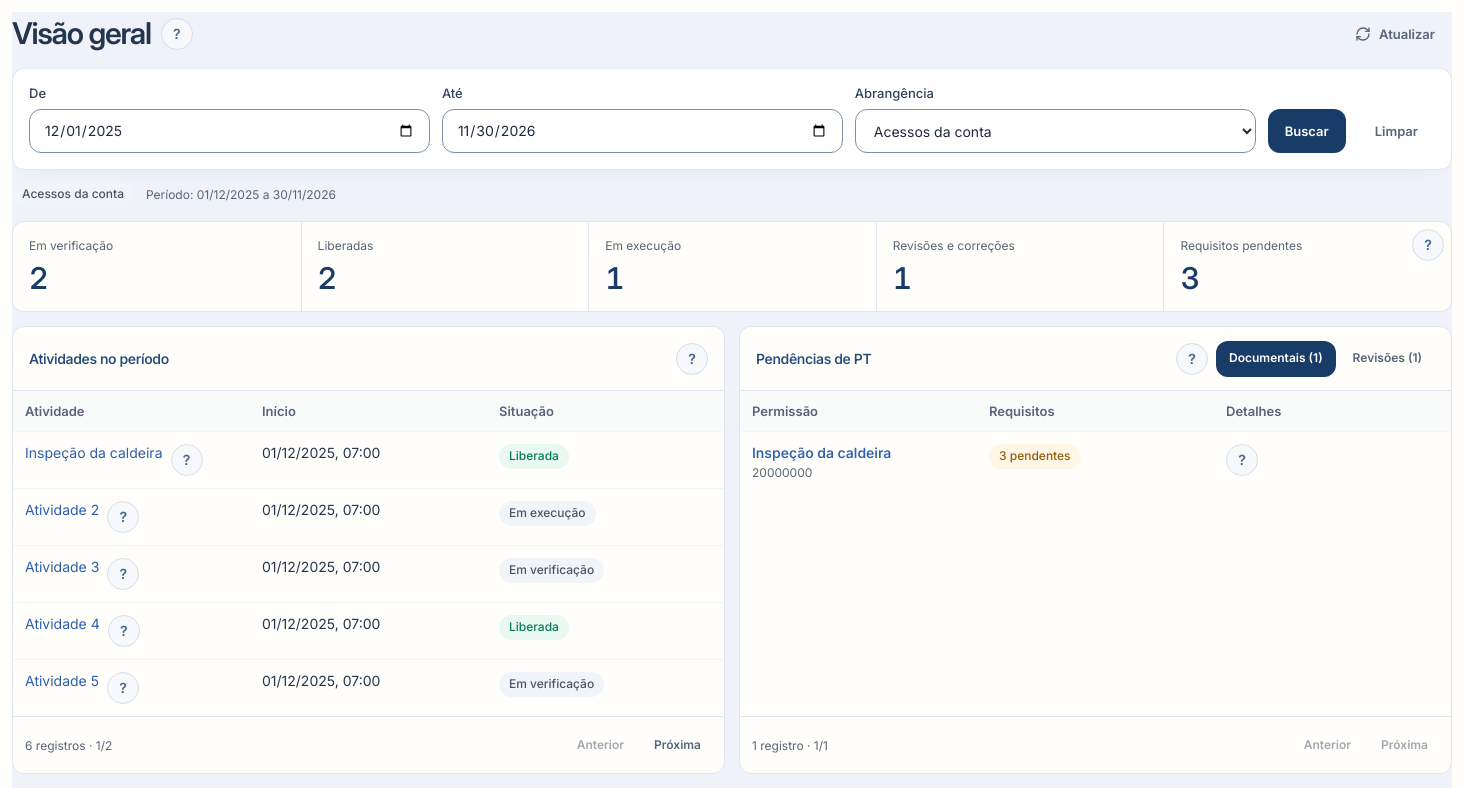
dashboard operacional no contrato nativo › aplica a abrangência de unidade apenas no envio e recusa períodos maiores que 36 meses
The image size is (1464, 788).
Expected: the element "Atividades no período" is shown, [12,326,725,774]
Select "Unidade selecionada" in the dropdown labelled "Abrangência": {"x": 1055, "y": 131} [855,109,1256,153]
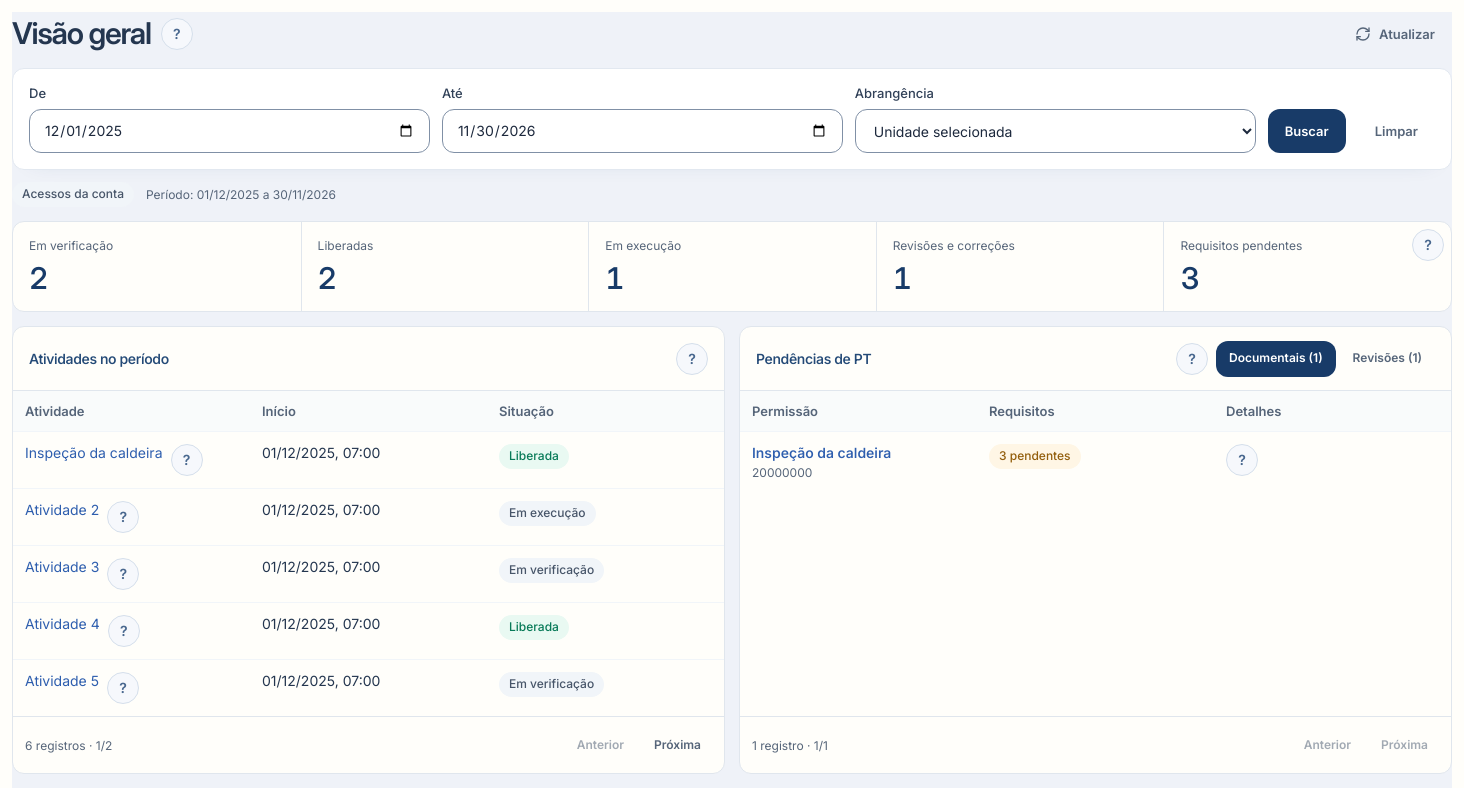
Click the button "Buscar": {"x": 1307, "y": 131} [1268,109,1346,153]
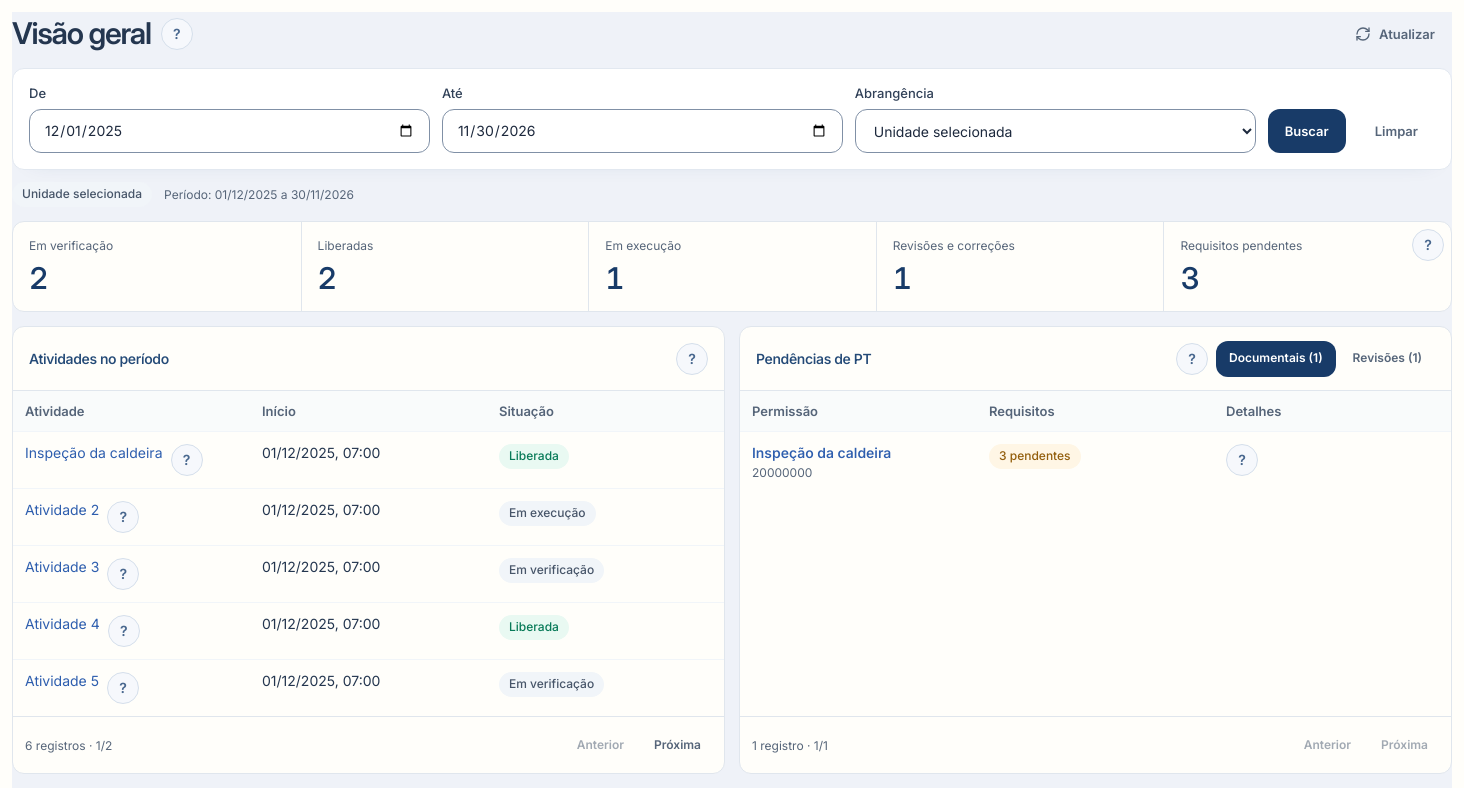
In the date field labelled "De": {"x": 229, "y": 131} [29,109,430,153], type "2020-01-01"
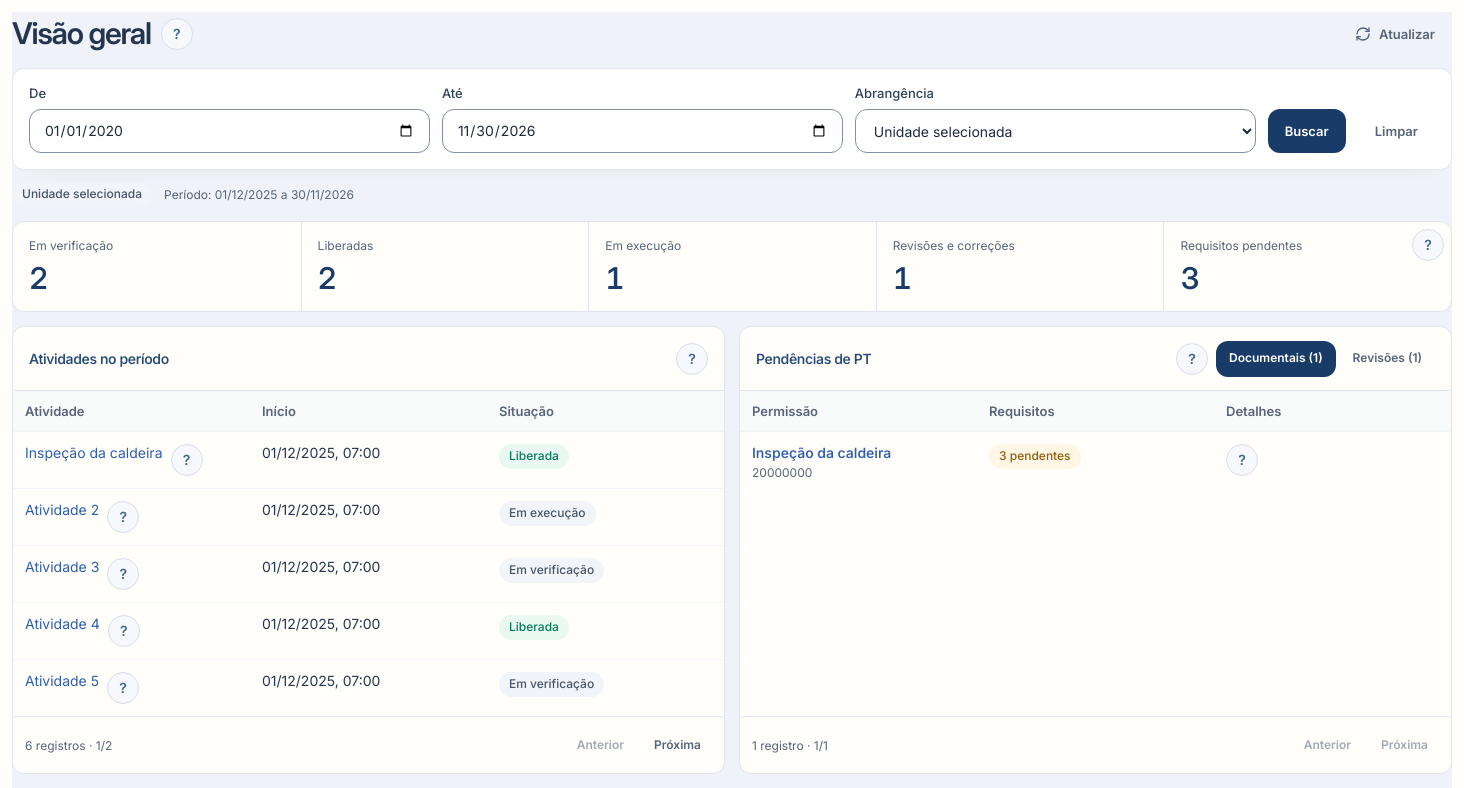
Click the button "Buscar": {"x": 1307, "y": 131} [1268,109,1346,153]
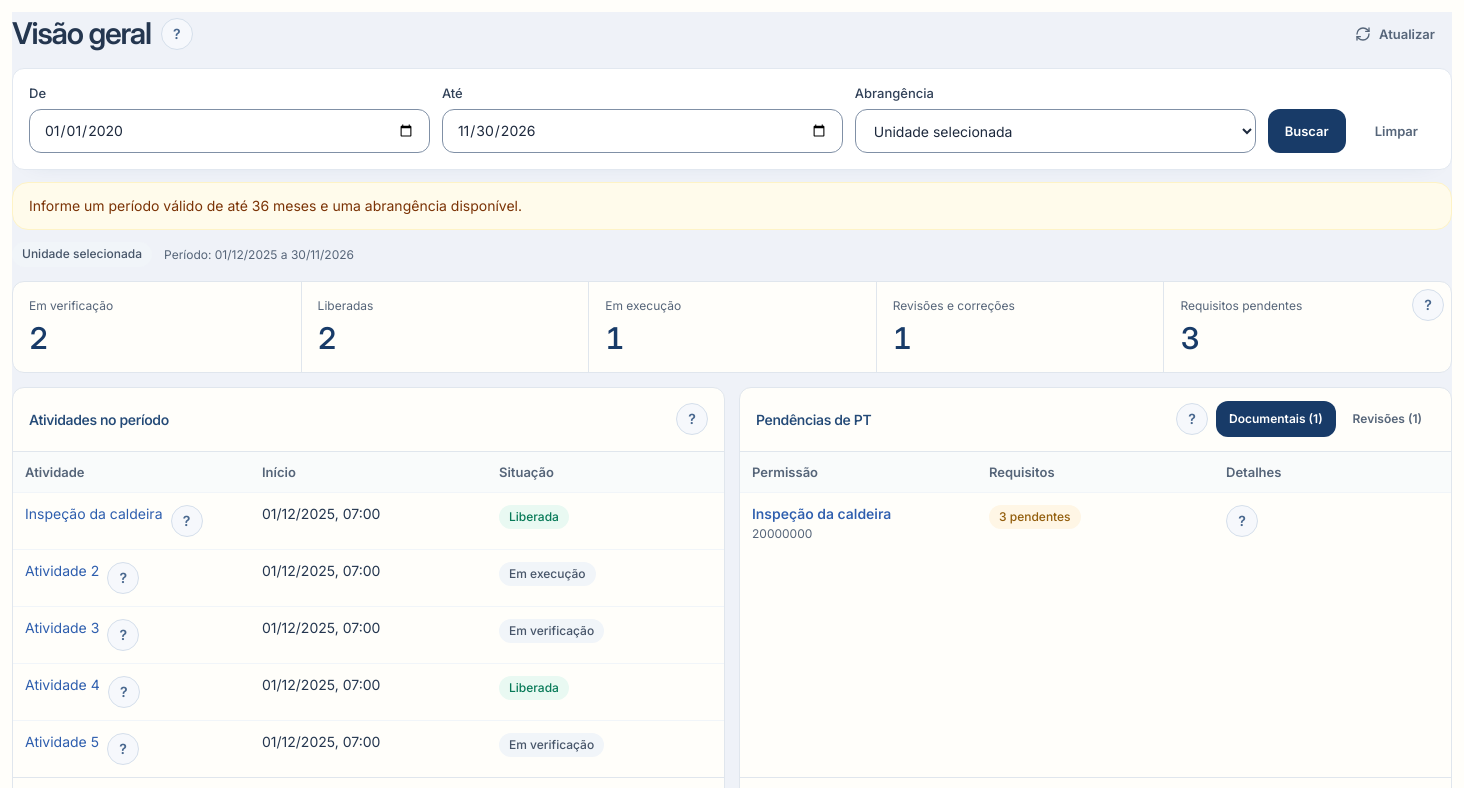
Expected: the message shows "até 36 meses", [29,197,522,214]
